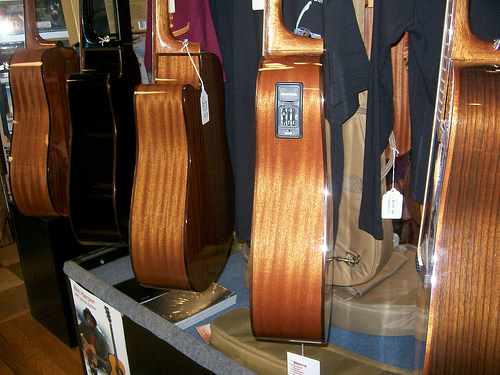guitar: (126, 1, 233, 296), (416, 1, 500, 375), (246, 1, 336, 348), (67, 1, 134, 249), (7, 1, 70, 218)
